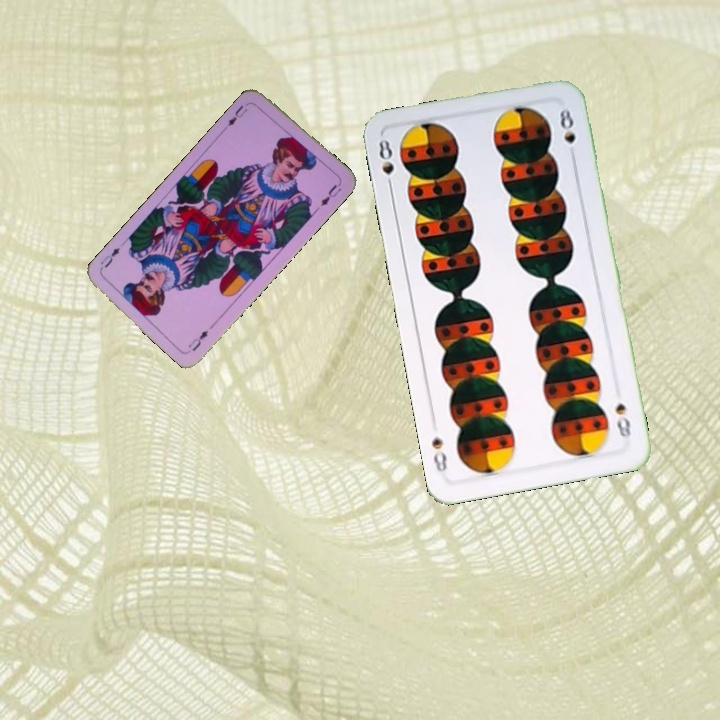EU: (221, 99, 252, 132), (184, 326, 211, 354)
S8: (375, 135, 398, 194), (611, 398, 634, 441)
